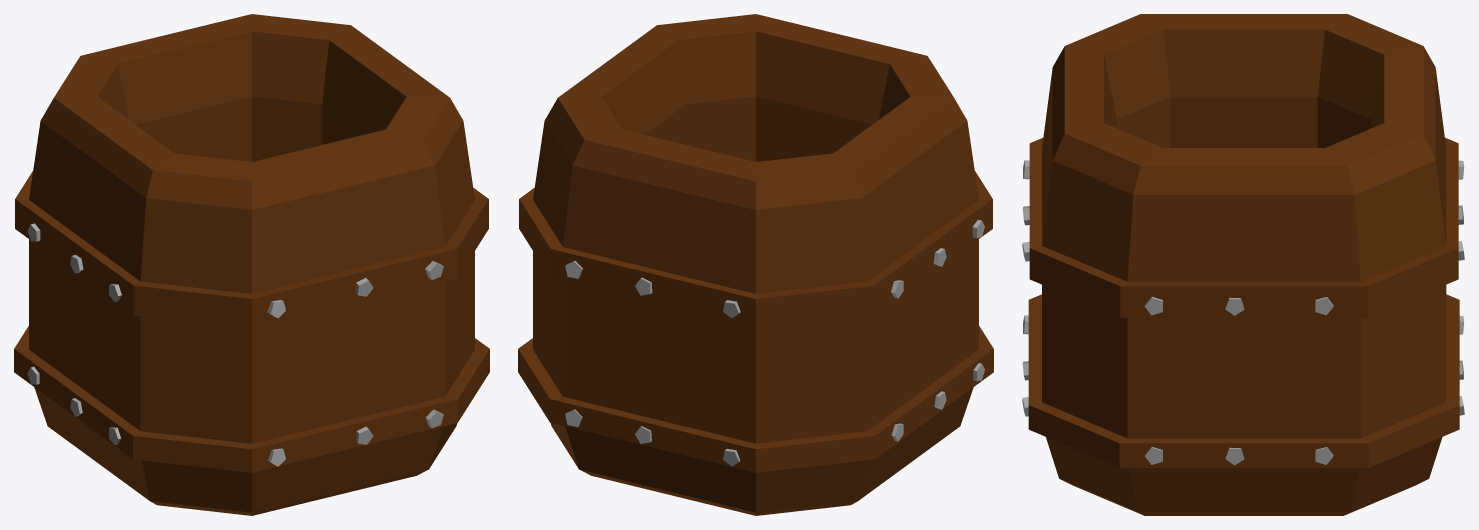
The model's file is FoodBarrel_Greybox.fbx.
3 views of the same model, side by side, from view 1: azimuth 30°, elevation 25°; view 2: azimuth 150°, elevation 25°; view 3: azimuth 270°, elevation 25° (orthographic). The views are drawn at different scales.
Visible parts, largest first — view 1: Barrel; view 2: Barrel; view 3: Barrel.
Part boxes in pixels (x1,y1,x2,y2): Barrel: [14, 14, 489, 515]; Barrel: [518, 14, 993, 515]; Barrel: [1022, 14, 1464, 515].
Size of the model in its own units: 137 by 122 by 138.
